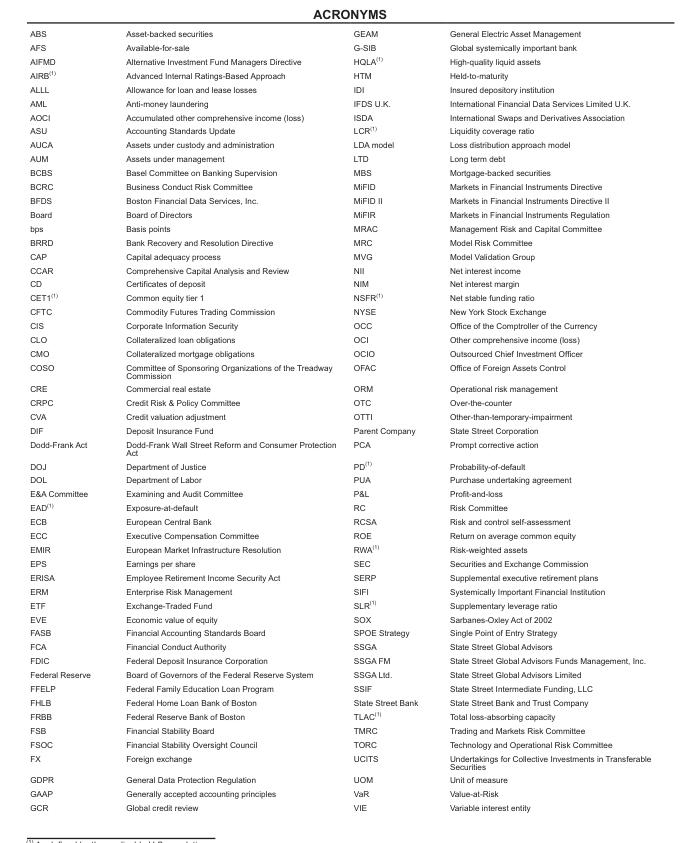table: (29, 28, 650, 811)
table column: (107, 28, 344, 811), (433, 28, 650, 811), (344, 28, 433, 811), (29, 28, 107, 811)
table column header: (29, 28, 650, 40)
table row: (29, 750, 650, 772), (29, 360, 650, 381), (29, 437, 650, 458), (29, 289, 650, 304), (29, 499, 650, 514), (29, 541, 650, 556), (29, 53, 650, 67), (29, 67, 650, 81), (29, 81, 650, 95), (29, 95, 650, 109), (29, 109, 650, 123), (29, 123, 650, 137), (29, 137, 650, 151), (29, 151, 650, 165), (29, 165, 650, 179), (29, 179, 650, 193), (29, 193, 650, 207), (29, 207, 650, 221), (29, 234, 650, 248), (29, 248, 650, 262), (29, 262, 650, 276), (29, 304, 650, 318), (29, 318, 650, 332), (29, 332, 650, 346), (29, 346, 650, 360), (29, 381, 650, 395), (29, 395, 650, 409), (29, 409, 650, 423), (29, 423, 650, 437), (29, 458, 650, 472), (29, 472, 650, 486), (29, 514, 650, 528), (29, 556, 650, 570), (29, 583, 650, 597), (29, 597, 650, 611), (29, 611, 650, 625), (29, 625, 650, 639), (29, 639, 650, 653), (29, 653, 650, 667), (29, 667, 650, 681), (29, 681, 650, 695), (29, 708, 650, 722), (29, 722, 650, 736), (29, 736, 650, 750), (29, 772, 650, 786), (29, 786, 650, 800), (29, 40, 650, 53), (29, 221, 650, 234), (29, 276, 650, 289), (29, 486, 650, 499), (29, 528, 650, 541), (29, 570, 650, 583), (29, 695, 650, 708), (29, 28, 650, 40), (29, 800, 650, 811)
